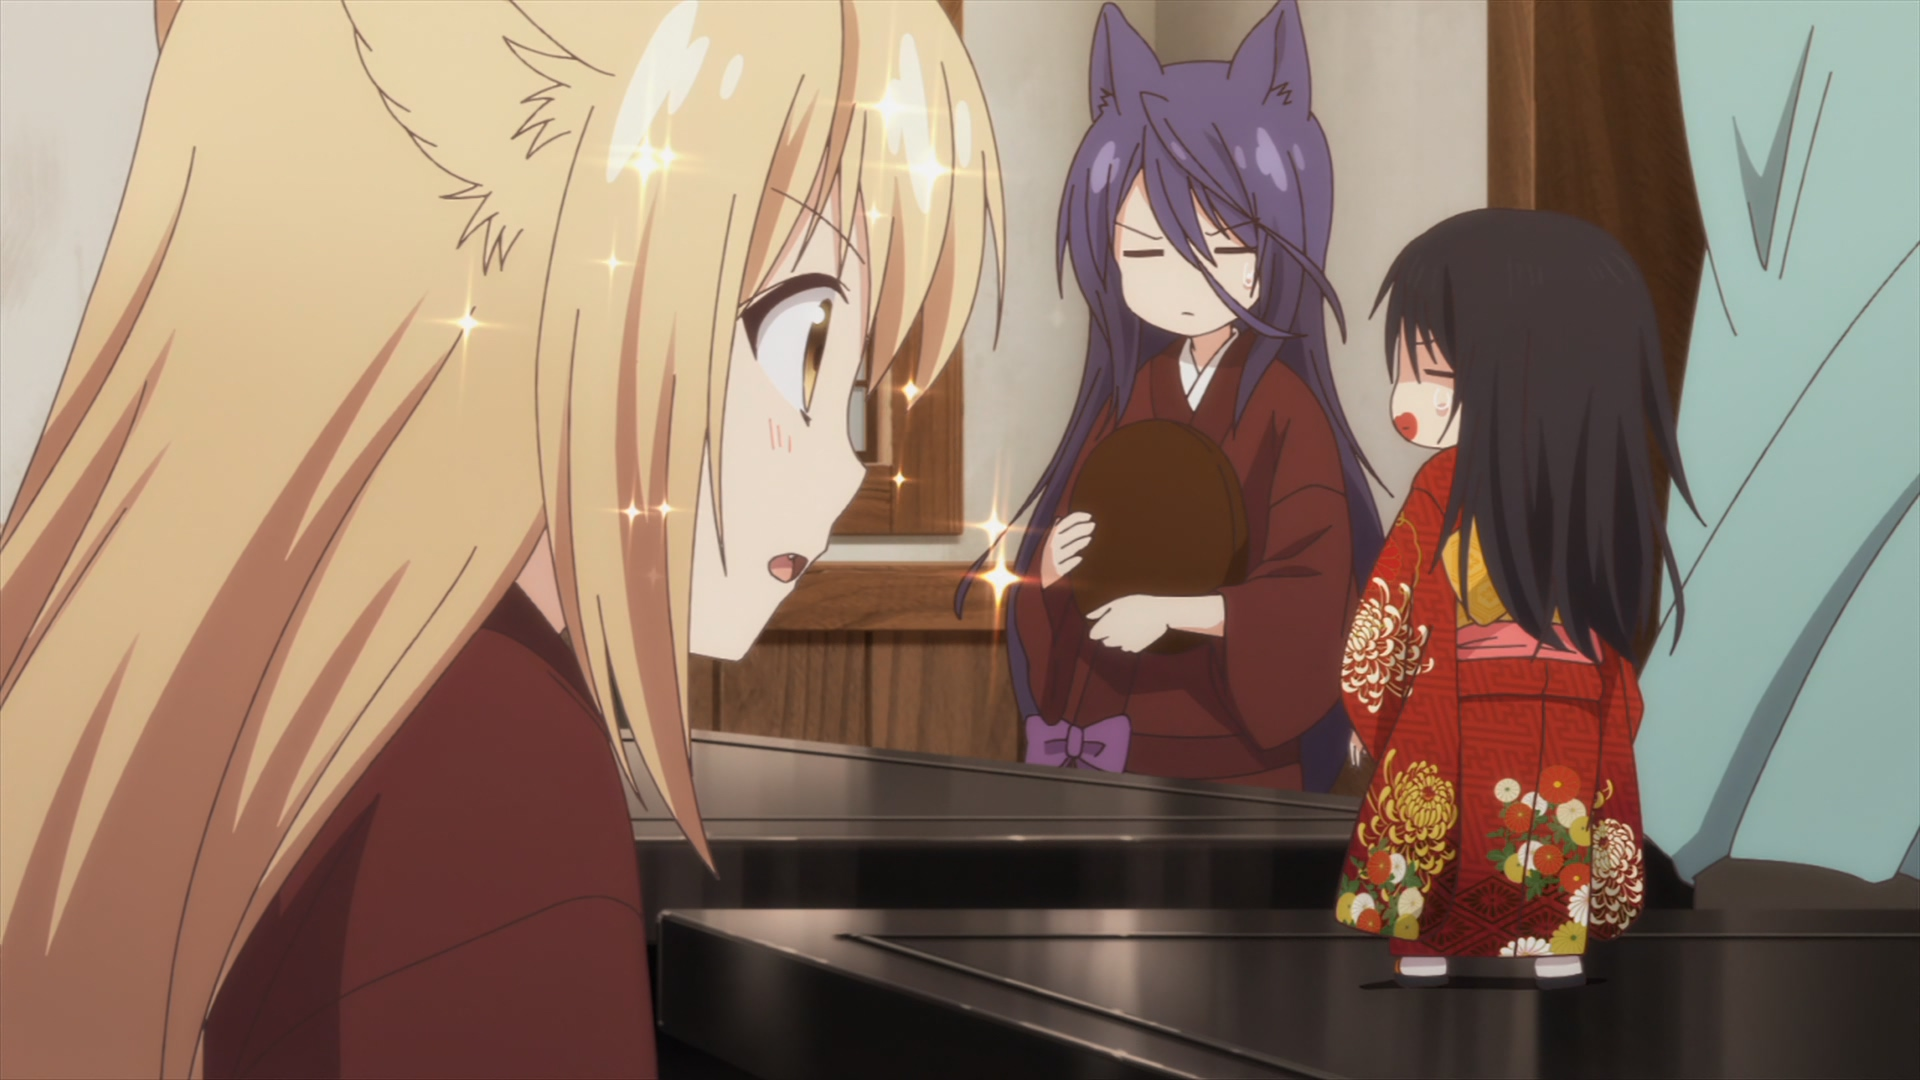柚: (1, 1, 1007, 1080)
皋: (953, 1, 1395, 789)
阿菊: (1331, 208, 1708, 992)
